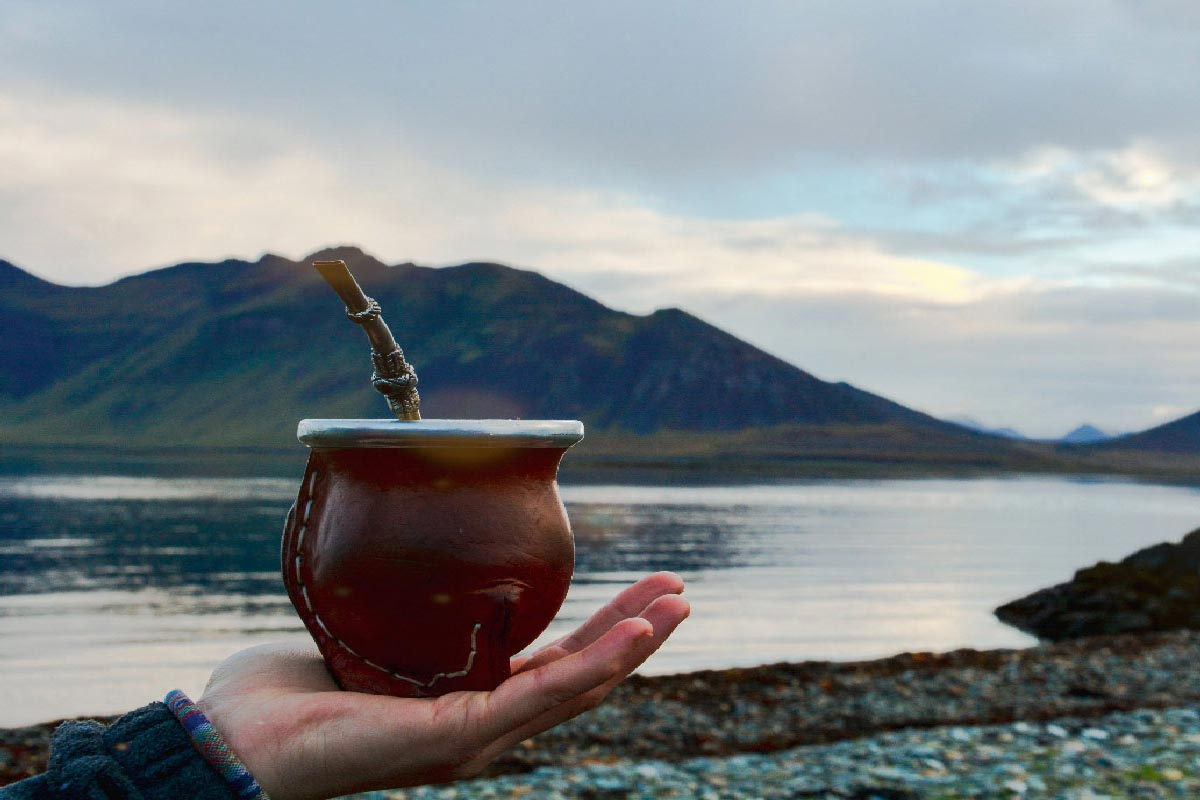calabaza: (264, 376, 614, 700)
mate: (266, 378, 616, 702)
